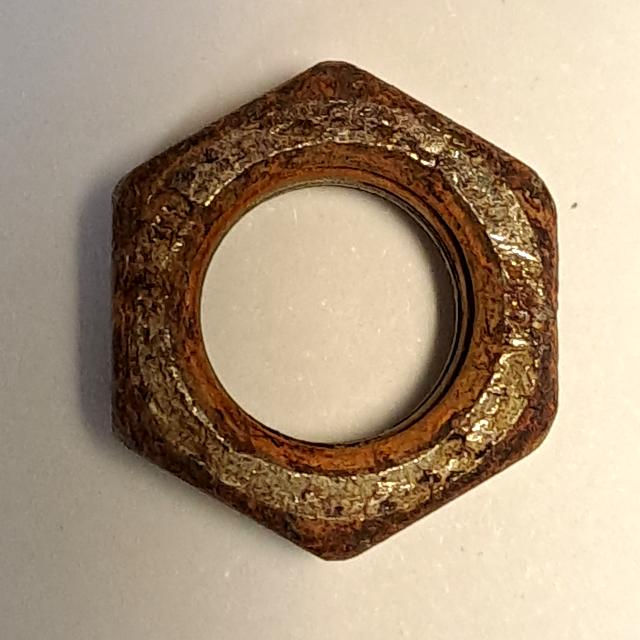Rust: (100, 44, 570, 581)
